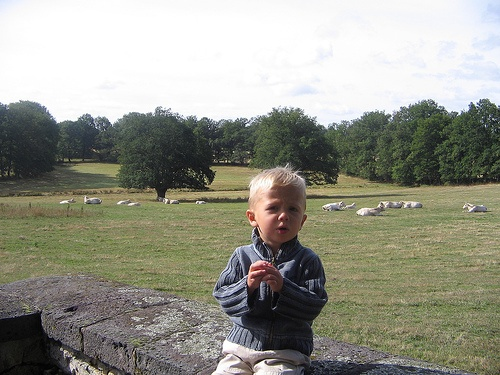head: (245, 168, 311, 249)
person: (171, 168, 333, 372)
